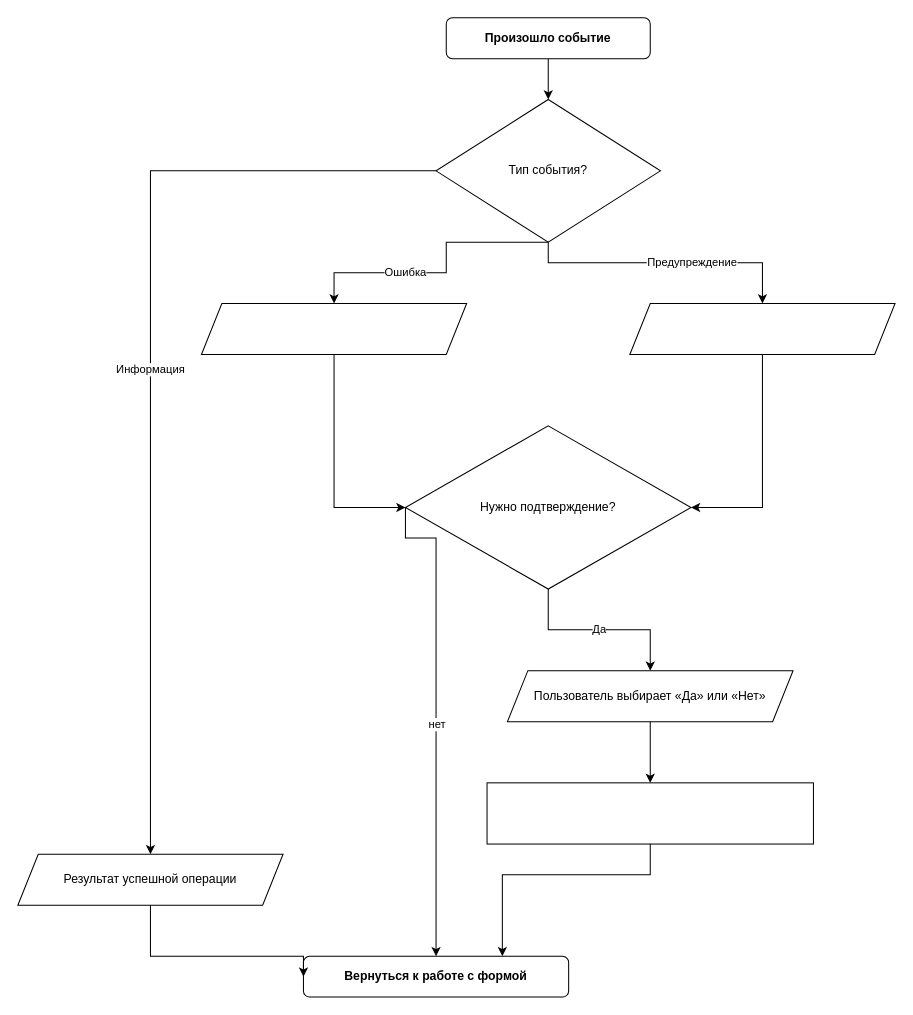
The diagram is 913 pixels wide and 1015 high, and some of its shapes have lost their labels. Each missing label, with the box of its shape:
Выполнить действие или безопасно отменить: (486, 782, 813, 844)
Что произойдёт при действии: (629, 302, 895, 354)
Что случилось и как исправить: (200, 302, 467, 354)
